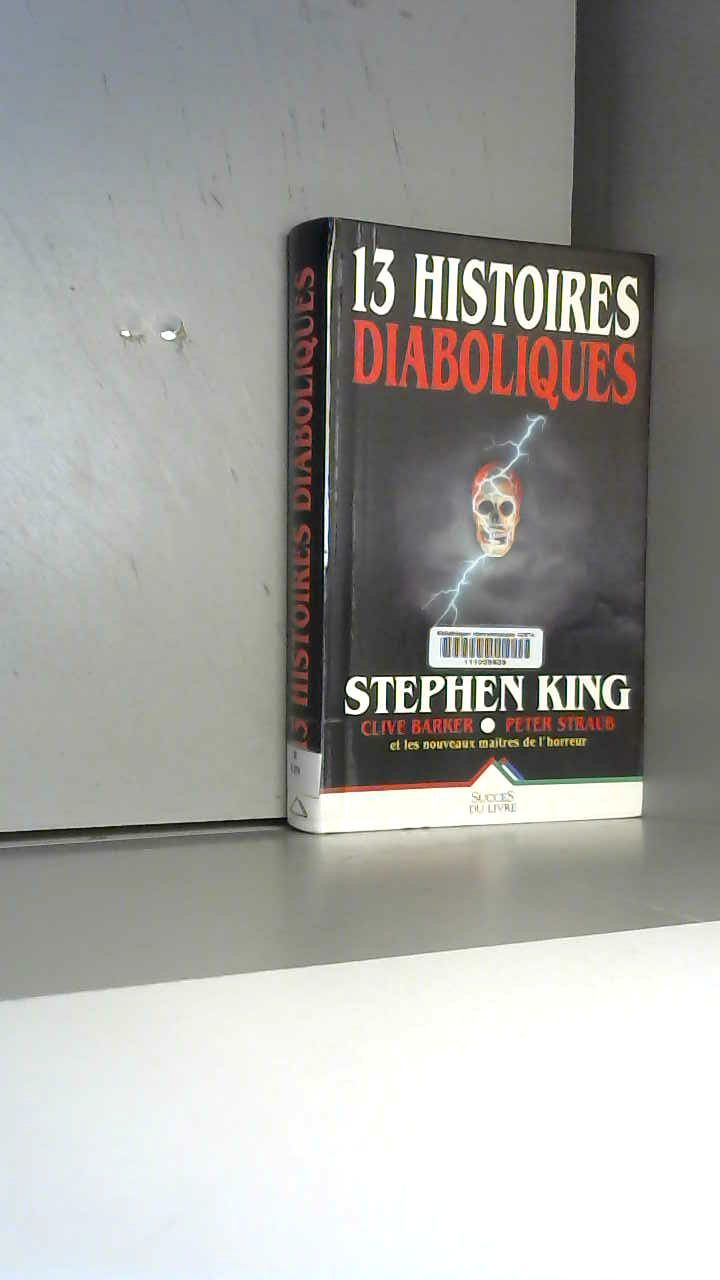book: (260, 190, 720, 942)
